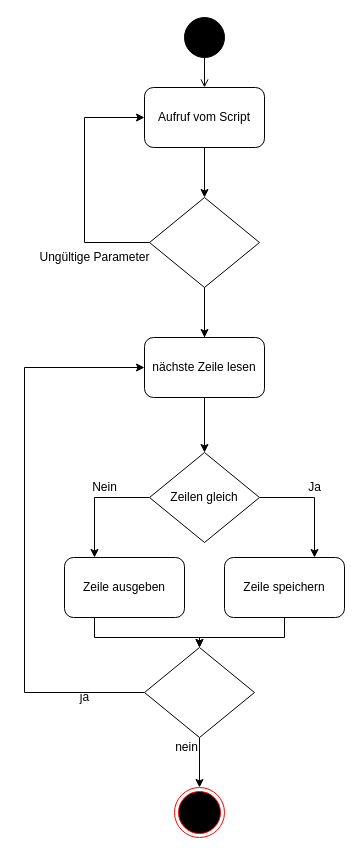
Some shapes in this 362 by 855 pixel diagram are drawn without their labels. Each missing label, with the box of its shape:
Parameter angegeben: (148, 196, 260, 288)
Zeilen vorhanden: (144, 646, 254, 738)
